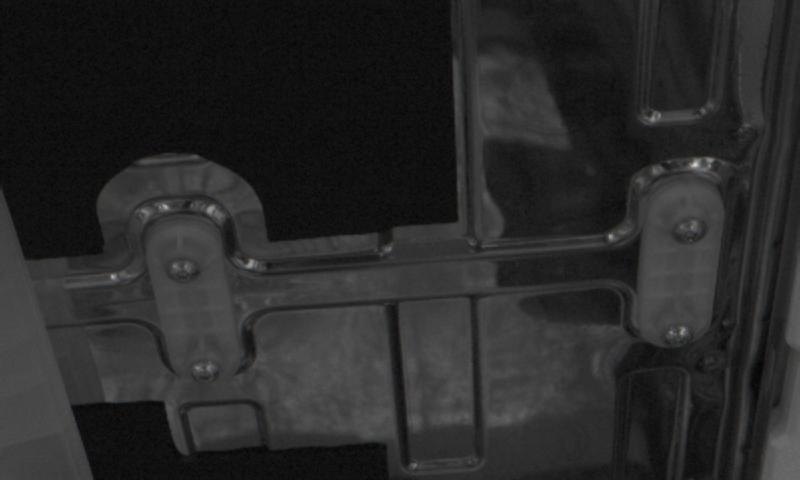vida-ok: (668, 213, 714, 257), (162, 249, 208, 293), (187, 352, 232, 392), (662, 319, 708, 358)
